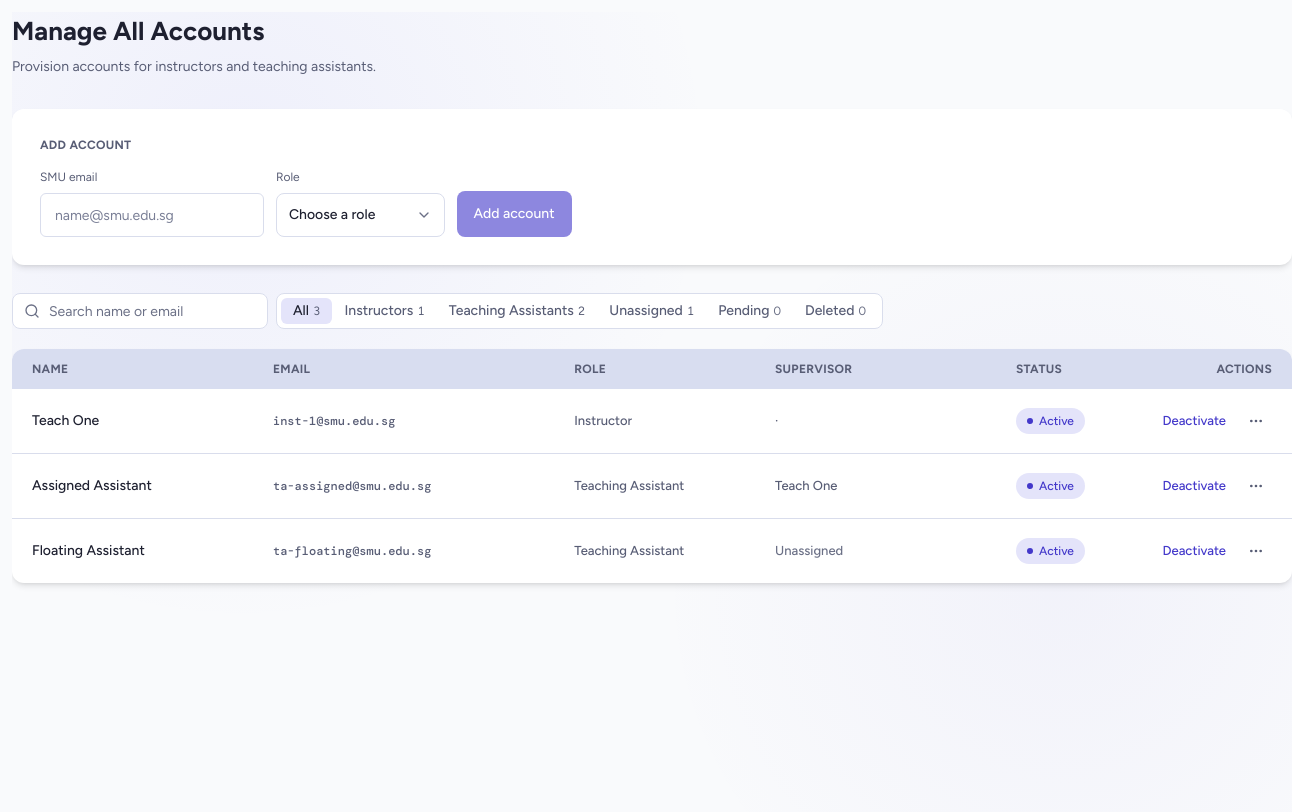
Test case: UsersPage - email typo check › swaps in the suggestion
Type "ann@gmial.com" into the field labelled "SMU email".
click(152, 215); type("ann@gmial.com")  # box [40,193,264,237]
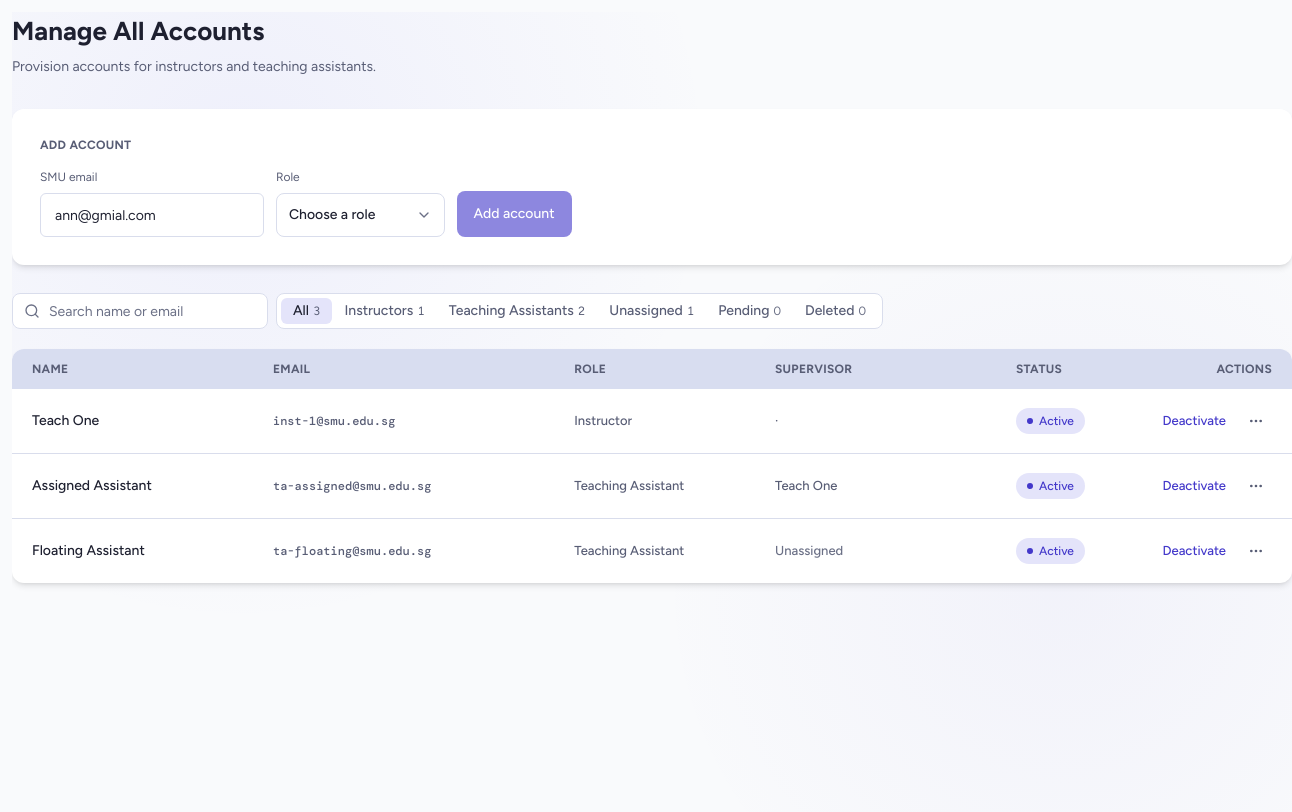
Click the dropdown labelled "role".
click(360, 215)  # box [276,193,444,237]
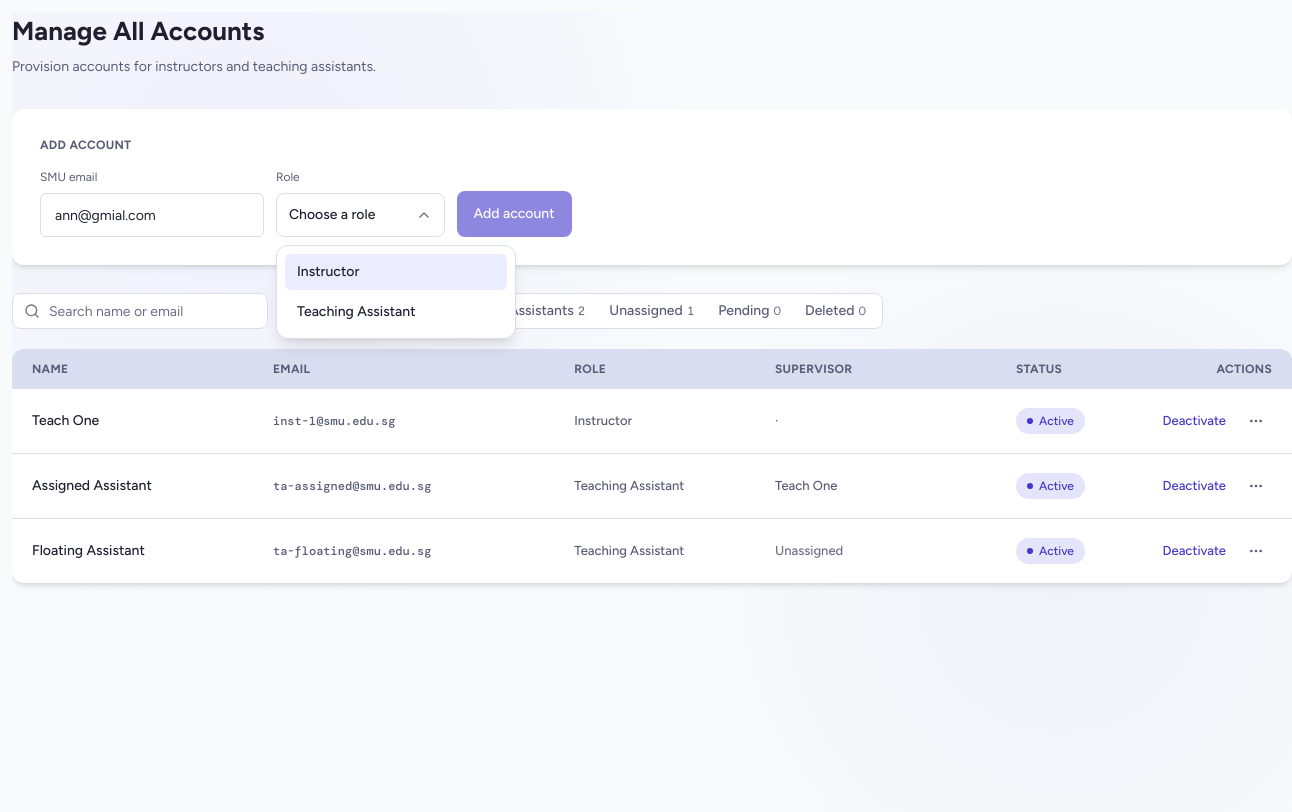
Click the option "Teaching Assistant".
click(356, 312)  # box [297,303,416,320]
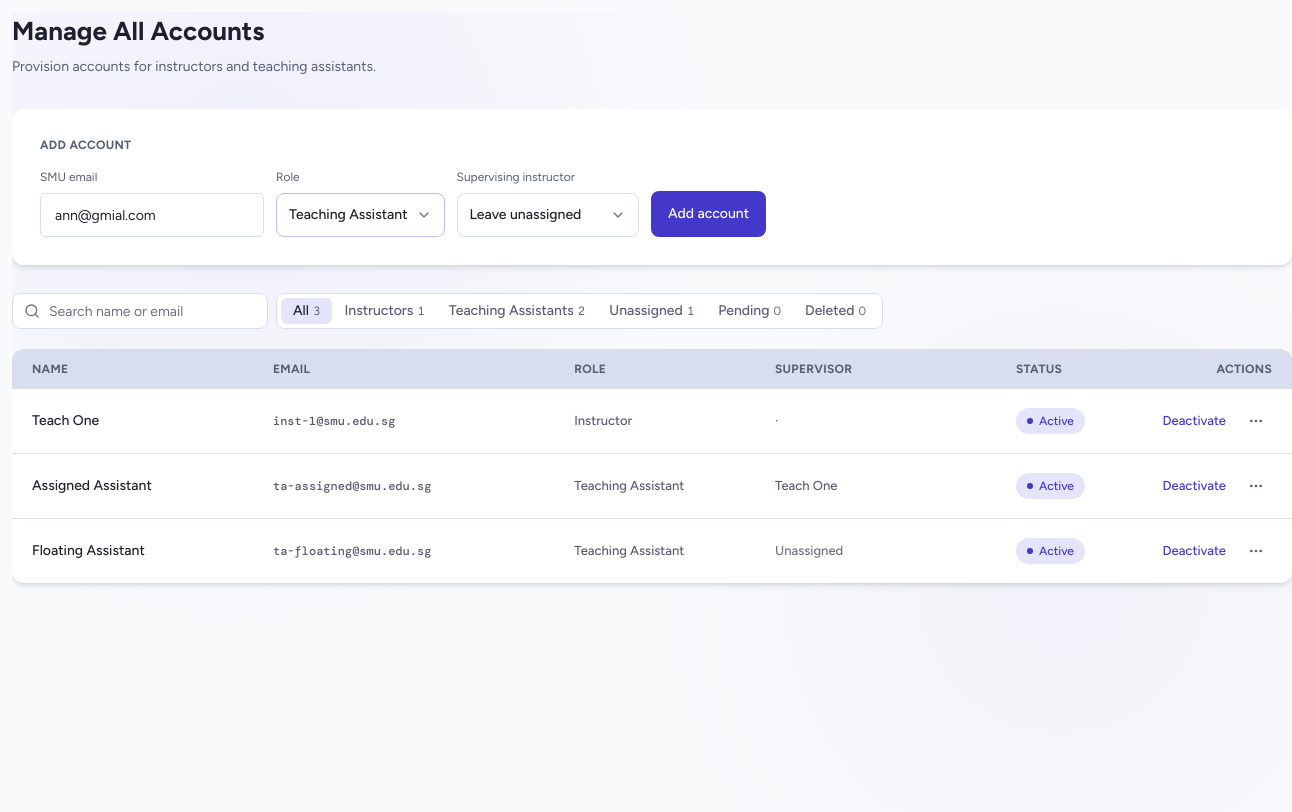
Click the button "Add account".
click(709, 214)  # box [651,191,766,237]
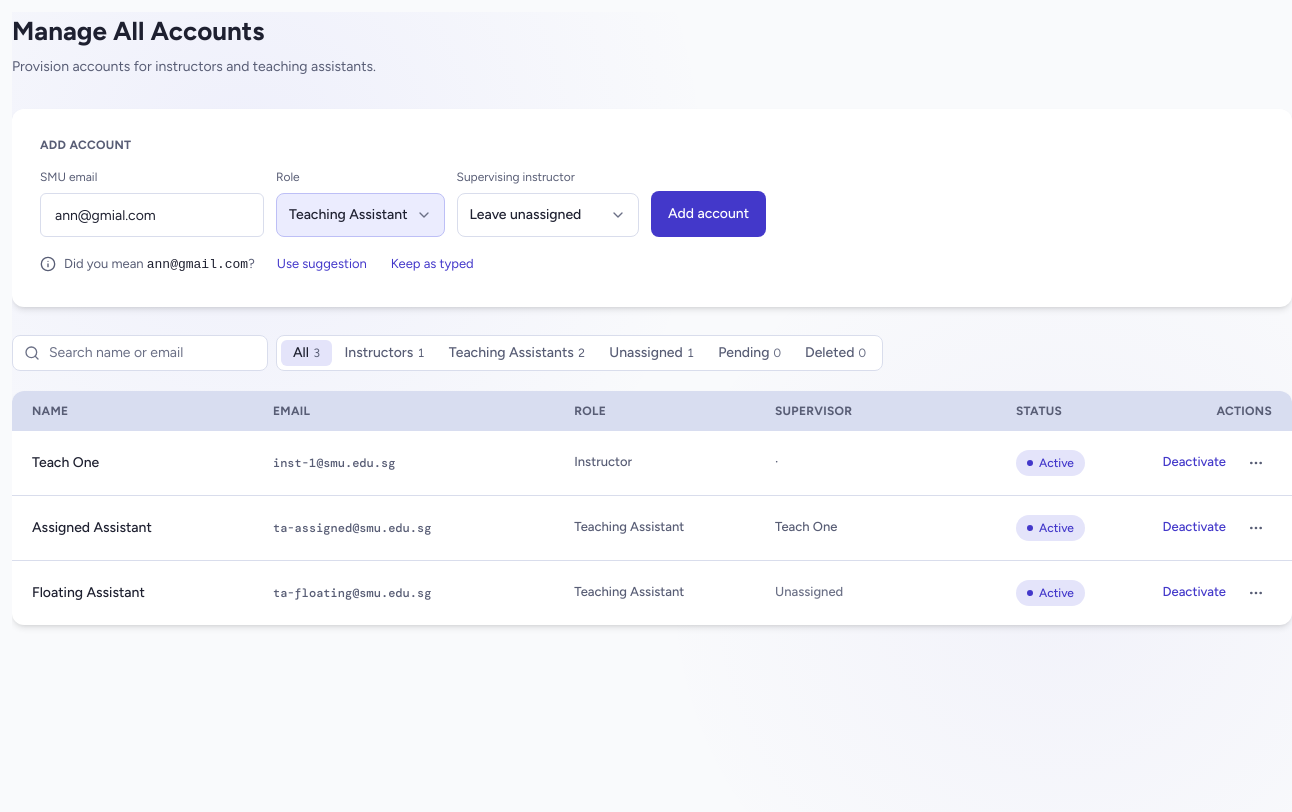
Click the button "Use suggestion".
click(322, 264)  # box [267,249,377,278]
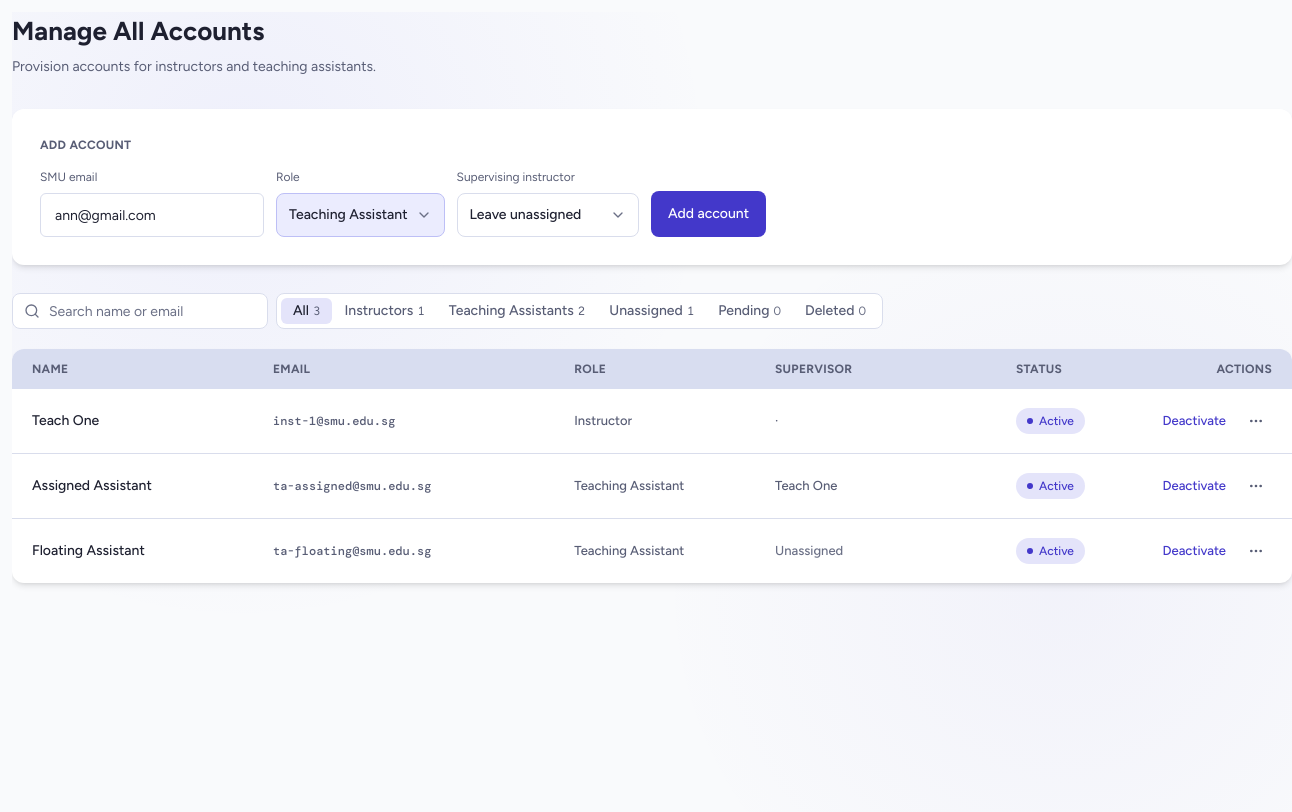
Expected: the field labelled "SMU email" holds "ann@gmail.com", [40,193,264,237]
